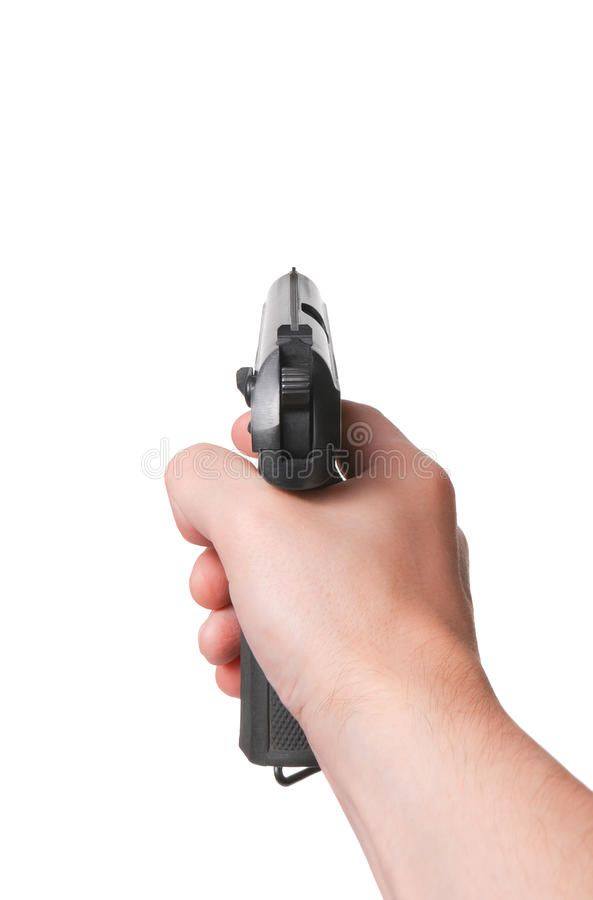gun: (234, 265, 351, 807)
